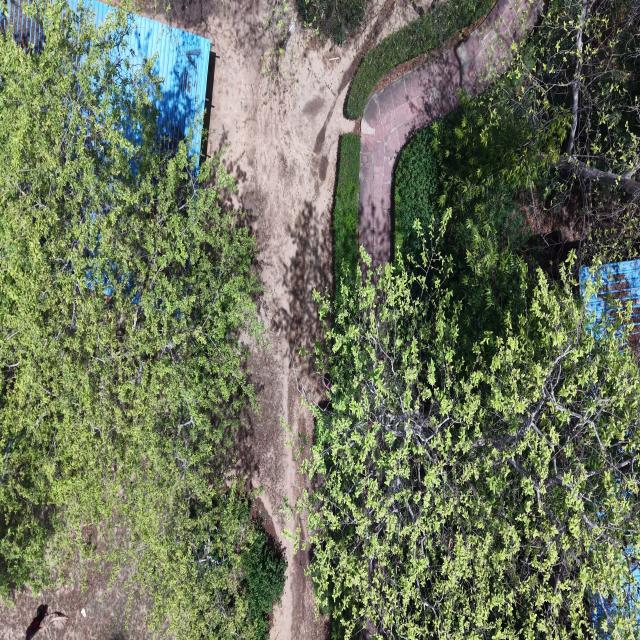DRY_AREA: (170, 0, 416, 639), (175, 2, 415, 639), (210, 34, 366, 538), (360, 0, 542, 268), (370, 0, 497, 95), (0, 572, 152, 639)
ROOFTOP_BUILDING: (112, 14, 215, 160), (119, 15, 215, 155), (580, 261, 639, 353)
VEGETATION_TREE: (304, 0, 639, 639), (306, 0, 639, 639), (0, 0, 284, 638), (307, 263, 639, 639), (395, 2, 639, 277), (397, 0, 639, 261), (468, 0, 639, 263), (395, 95, 540, 350), (502, 0, 639, 194), (346, 0, 494, 119), (346, 0, 493, 119), (394, 128, 439, 260), (243, 527, 286, 639), (333, 134, 360, 303), (297, 0, 366, 44), (261, 0, 294, 80)
